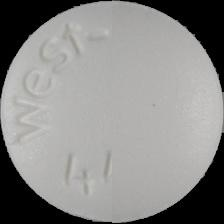63629-4026: (0, 0, 224, 224)
